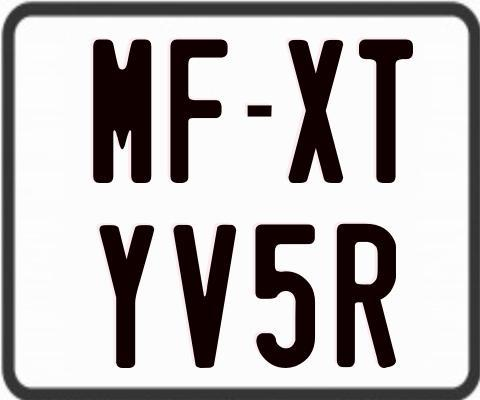5: (253, 224, 317, 373)
F: (167, 39, 227, 189)
M: (93, 38, 157, 184)
R: (336, 221, 398, 367)
T: (359, 38, 419, 184)
V: (170, 224, 236, 373)
X: (286, 39, 344, 182)
Y: (98, 222, 155, 371)
